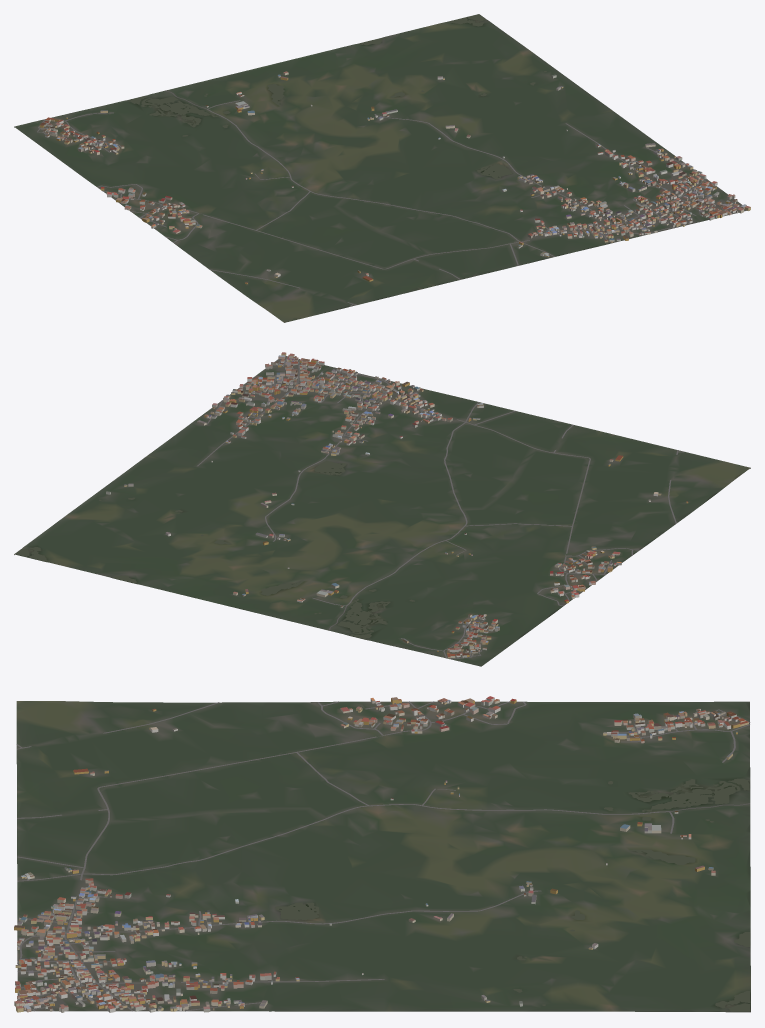
The picture shows the model from 3 angles, top to bottom: view 1: azimuth 30°, elevation 25°; view 2: azimuth 150°, elevation 25°; view 3: azimuth 270°, elevation 25°; orthographic projection. The views are drawn at different scales.
Parts seen in each view (by area): view 1: ground, buildings, roads, water; view 2: ground, buildings, roads, water; view 3: ground, buildings, roads, water.
Part boxes in pixels (<box>): ground: <box>14,15,749,322</box>; buildings: <box>39,71,750,284</box>; roads: <box>37,90,744,306</box>; water: <box>130,14,546,179</box>; ground: <box>14,356,750,666</box>; buildings: <box>106,352,688,658</box>; roads: <box>197,356,684,659</box>; water: <box>15,461,414,638</box>; ground: <box>16,701,750,1012</box>; buildings: <box>14,696,748,1012</box>; roads: <box>16,701,750,1011</box>; water: <box>275,778,750,1011</box>.
Bounding box in the file's own units: 1413 × 16.96 × 1409.
